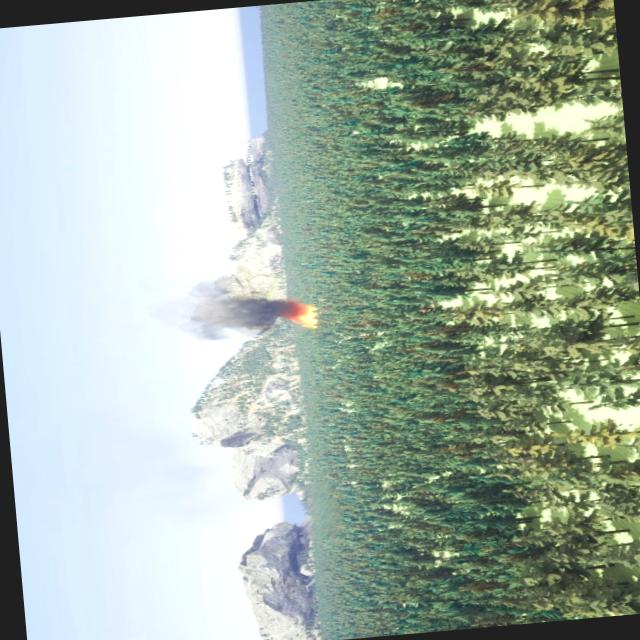fire: (290, 300, 318, 333)
smoke: (139, 268, 298, 345)
